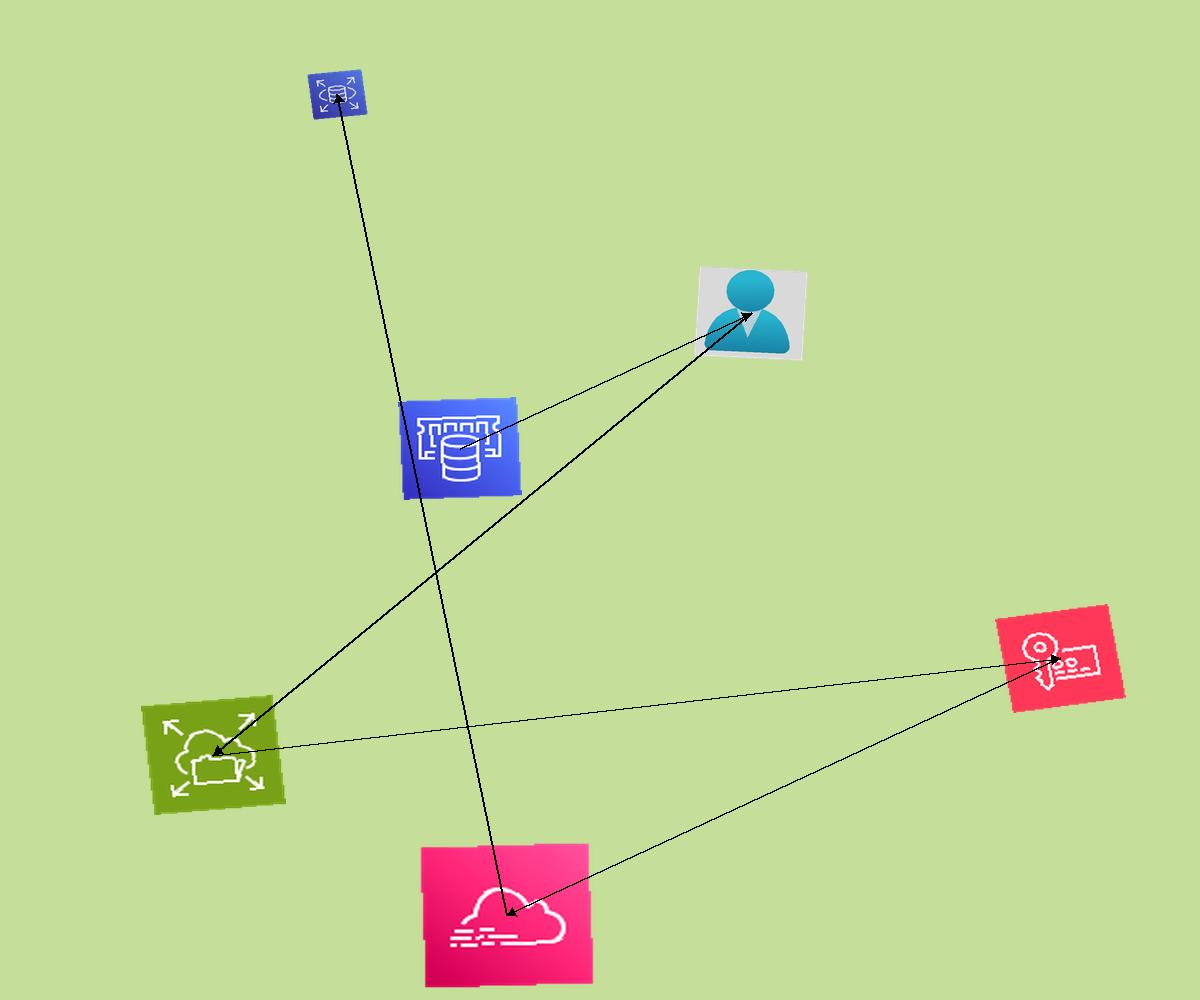AWS-CloudTrail: (419, 842, 595, 989)
AWS-EFS: (141, 695, 286, 815)
AWS-ElastiCache: (398, 397, 522, 500)
AWS-Key-Management-Service: (995, 604, 1126, 713)
AWS-RDS: (307, 69, 368, 120)
Azure_users: (694, 266, 808, 361)
